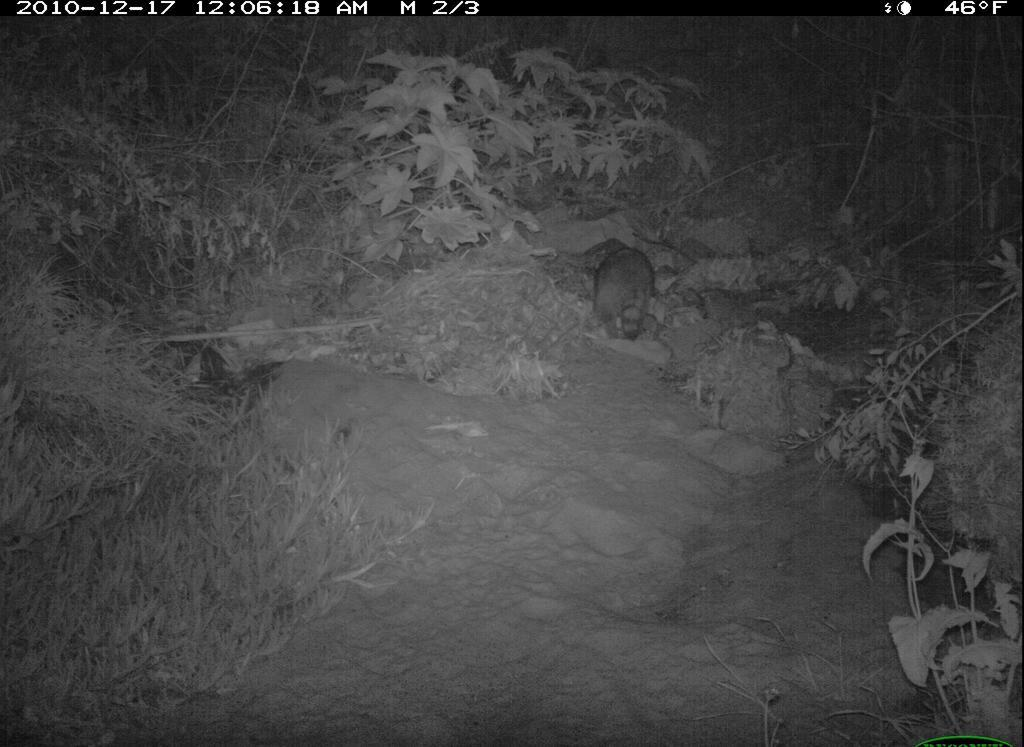raccoon: (577, 237, 676, 351)
